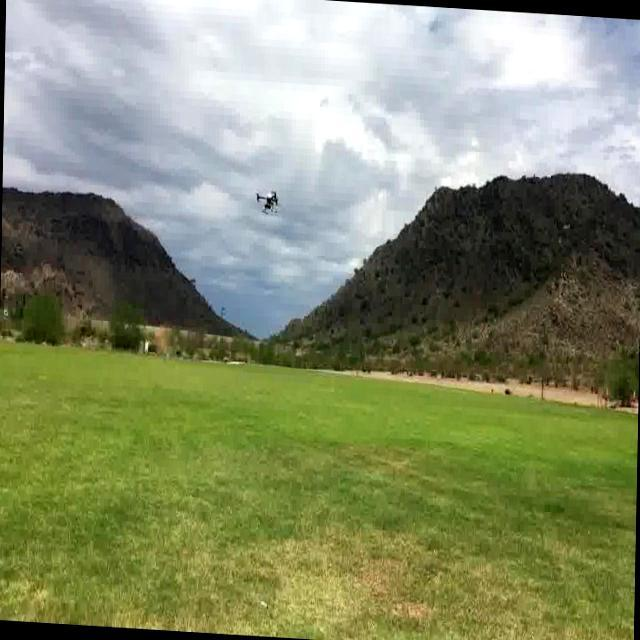drone: (252, 187, 284, 220)
